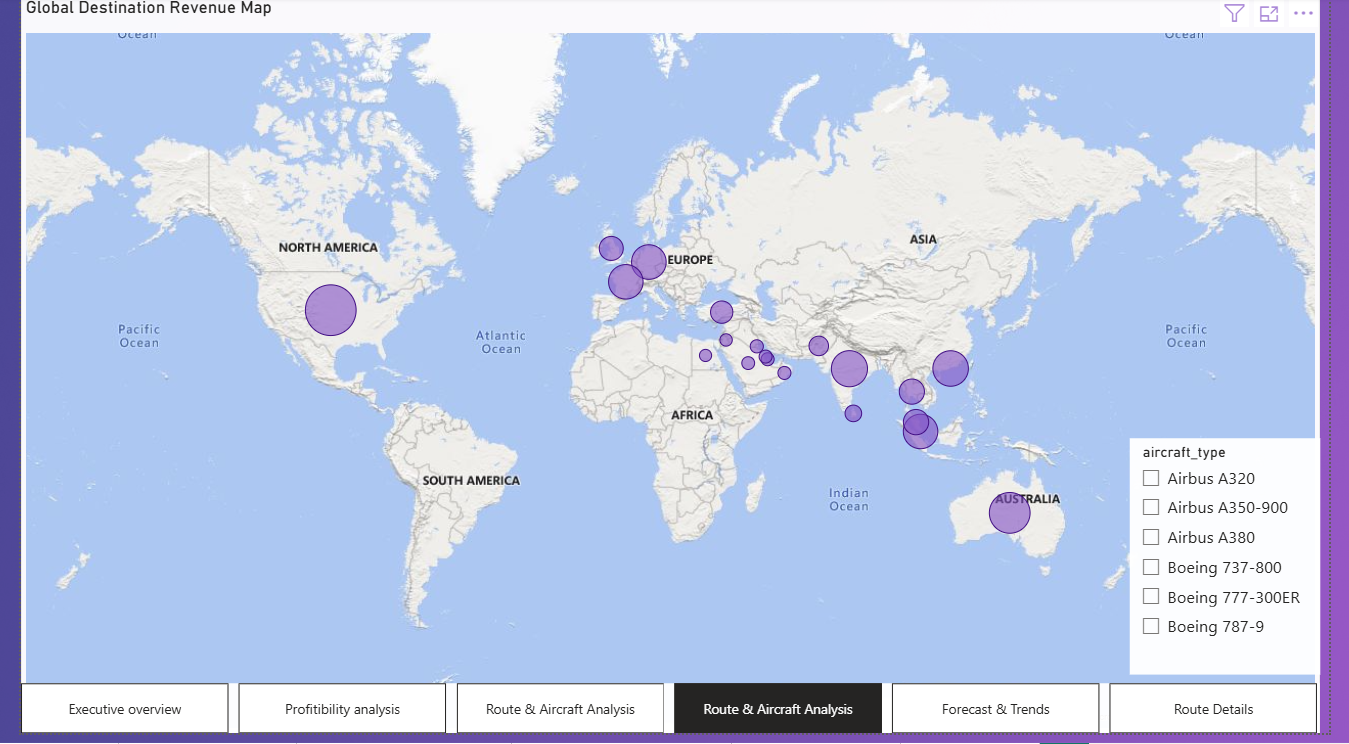

Layout of this report page (visuals, bound fields, positions):
{"tool":"powerbi","page":{"name":"Route & Aircraft Analysis","canvas":[1280,720],"ordinal":3},"visuals":[{"type":"map","title":"Global Destination Revenue Map","fields":{"Category":["airport_lookup.Country"],"Size":["Sum(Airline Data.total_revenue)"]},"box":[0,0,1270.7,720.4],"z":0},{"type":"pageNavigator","box":[0,671,1270.7,49.4],"z":1000},{"type":"slicer","fields":{"Values":["Airline Data.aircraft_type"]},"box":[1085,431.2,186.2,231.2],"z":2000}]}

Visuals, with their boxes in screenshot pixels (x1, y1, x2, y2):
"Global Destination Revenue Map" map: pyautogui.locateOnScreen(18, 0, 1314, 731)
pageNavigator: pyautogui.locateOnScreen(18, 681, 1314, 731)
slicer - Airline Data.aircraft_type: pyautogui.locateOnScreen(1124, 436, 1314, 672)
